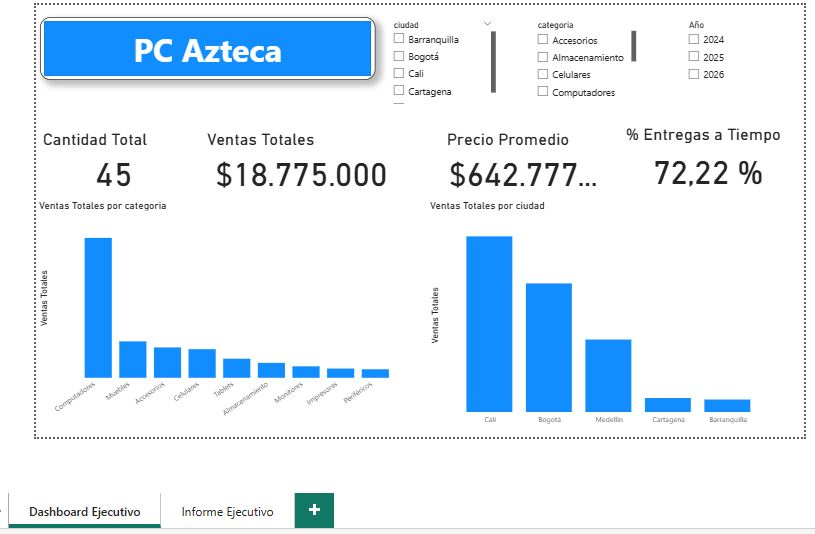

The page's visual inventory and layout, read from the dashboard file:
{"tool":"powerbi","page":{"name":"Dashboard Ejecutivo","canvas":[1280,720],"ordinal":0},"visuals":[{"type":"card","title":"Ventas Totales","fields":{"Values":["Tabla_Medidas.Ventas Totales"]},"box":[280.7,207.2,324.7,105.8],"z":0},{"type":"card","title":"Cantidad Total","fields":{"Values":["Tabla_Medidas.Cantidad Total"]},"box":[5.9,207.2,246.9,105.8],"z":1000},{"type":"card","title":"Precio Promedio","fields":{"Values":["Tabla_Medidas.Precio Promedio"]},"box":[680,206.7,263.3,106.7],"z":2000},{"type":"card","title":"% Entregas a Tiempo","fields":{"Values":["Tabla_Medidas.% Entregas a Tiempo"]},"box":[978.6,198.4,283.6,114.6],"z":3000},{"type":"clusteredColumnChart","fields":{"Y":["Tabla_Medidas.Ventas Totales"],"Category":["Productos.categoria"]},"box":[0,323.3,617.1,385],"z":4000},{"type":"columnChart","fields":{"Y":["Tabla_Medidas.Ventas Totales"],"Category":["Clientes.ciudad"]},"box":[650.9,323.3,586.3,385],"z":5000},{"type":"slicer","fields":{"Values":["Clientes.ciudad"]},"box":[583.3,20,188.3,150],"z":6000},{"type":"slicer","fields":{"Values":["Productos.categoria"]},"box":[823.3,20,181.7,150],"z":7000},{"type":"shape","box":[6.2,20,558.8,105],"z":7001},{"type":"slicer","fields":{"Values":["Calendario.Año"]},"box":[1075,20,163.3,150],"z":7002}]}

Visuals, with their boxes on the page's 1280x720 design canvas (x1, y1, x2, y2). These are canvas units, not pixel positions in the 815x534 screenshot, which may show the page scaled, cropped or inside an application window:
"Ventas Totales" card: (left=281, top=207, right=605, bottom=313)
"Cantidad Total" card: (left=6, top=207, right=253, bottom=313)
"Precio Promedio" card: (left=680, top=207, right=943, bottom=313)
"% Entregas a Tiempo" card: (left=979, top=198, right=1262, bottom=313)
clusteredColumnChart - Tabla_Medidas.Ventas Totales x Productos.categoria: (left=0, top=323, right=617, bottom=708)
columnChart - Tabla_Medidas.Ventas Totales x Clientes.ciudad: (left=651, top=323, right=1237, bottom=708)
slicer - Clientes.ciudad: (left=583, top=20, right=772, bottom=170)
slicer - Productos.categoria: (left=823, top=20, right=1005, bottom=170)
shape: (left=6, top=20, right=565, bottom=125)
slicer - Calendario.Año: (left=1075, top=20, right=1238, bottom=170)
